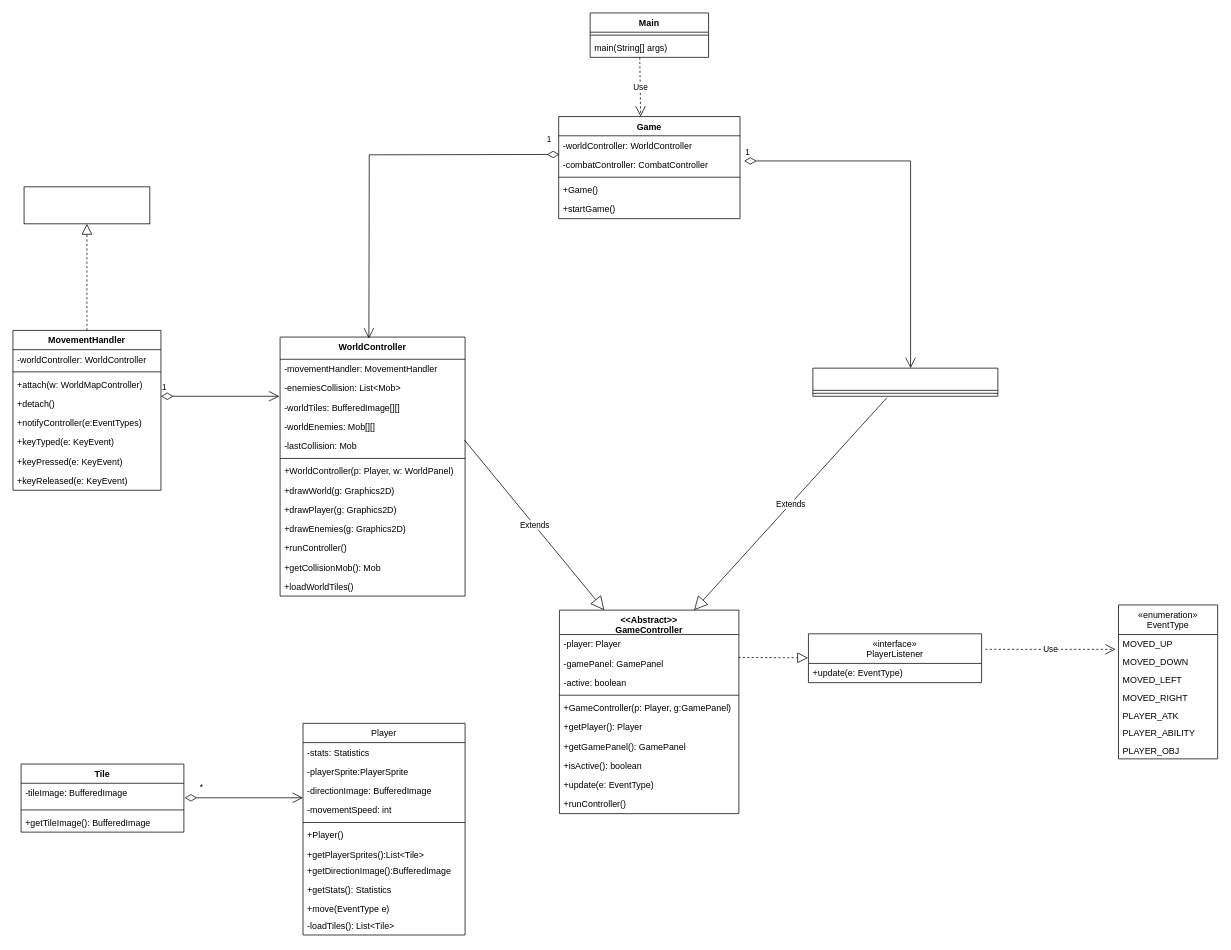
Image size: 1231x950. Some labels were removed from this diagram. The centre of each missing label's shape, as x and y in pixels:
"CombatController" goes at (x=905, y=381).
"«interface» java.awt.event.KeyListener" goes at (x=86, y=205).
